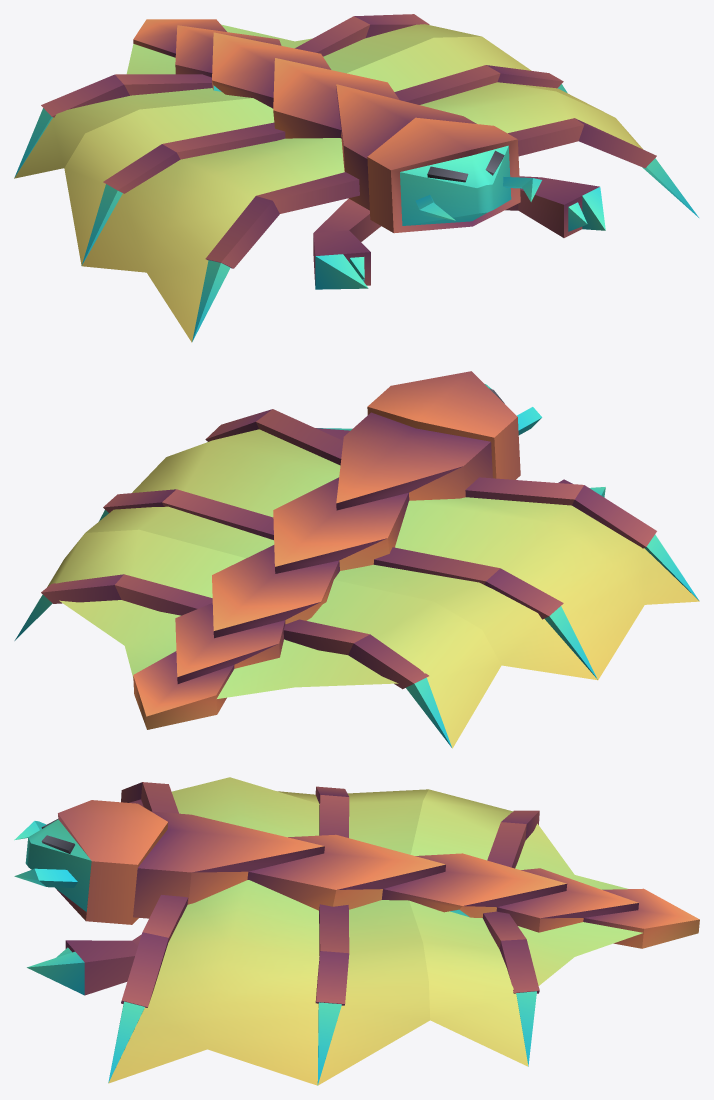
File: Alien_02.fbx
3 views of the same model, one above another, from view 1: azimuth 30°, elevation 25°; view 2: azimuth 150°, elevation 25°; view 3: azimuth 270°, elevation 25° (orthographic).
Visible parts, largest first — view 1: Alien_02; view 2: Alien_02; view 3: Alien_02.
Part boxes in pixels (bbox=[...]): Alien_02: bbox=[14, 14, 698, 342]; Alien_02: bbox=[14, 371, 699, 748]; Alien_02: bbox=[14, 777, 699, 1085].
Size of the model in its own units: 327 by 90.55 by 380.
